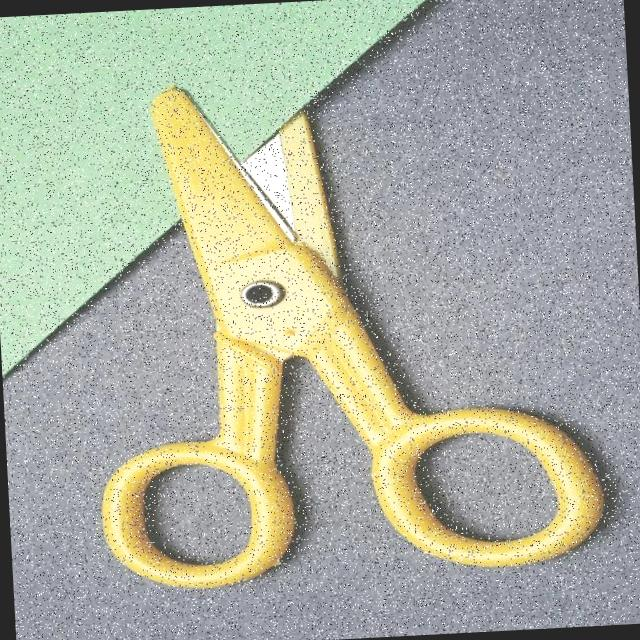scissors: (73, 58, 613, 594)
